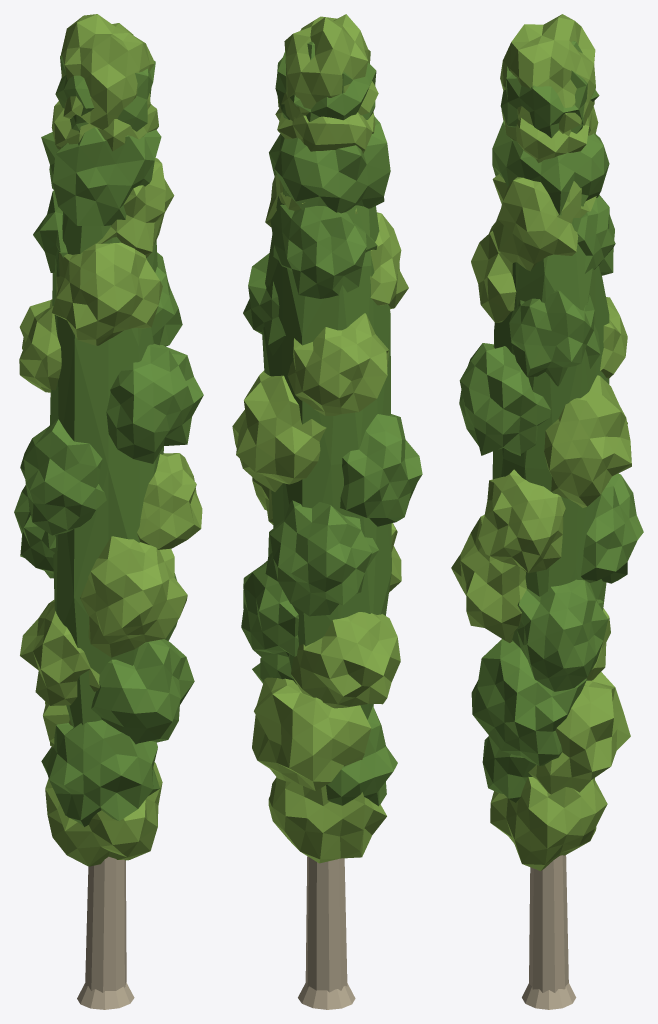
Rendered from poplar-a.glb.
3 views of the same model, side by side, from view 1: azimuth 30°, elevation 25°; view 2: azimuth 150°, elevation 25°; view 3: azimuth 270°, elevation 25° (orthographic).
Visible parts, largest first — view 1: Body_Leaves2, Body_Leaves, Body_Bark; view 2: Body_Leaves2, Body_Leaves, Body_Bark; view 3: Body_Leaves2, Body_Leaves, Body_Bark.
Part boxes in pixels (x1,y1,x2,y2): Body_Leaves2: (14,56,203,826); Body_Leaves: (19,14,202,866); Body_Bark: (77,856,134,1009); Body_Leaves2: (241,41,422,806); Body_Leaves: (232,14,408,863); Body_Bark: (298,856,355,1009); Body_Leaves2: (459,41,643,802); Body_Leaves: (451,14,631,870); Body_Bark: (522,855,576,1009).
Bounding box in the file's own units: 2.5 × 14 × 2.5.
